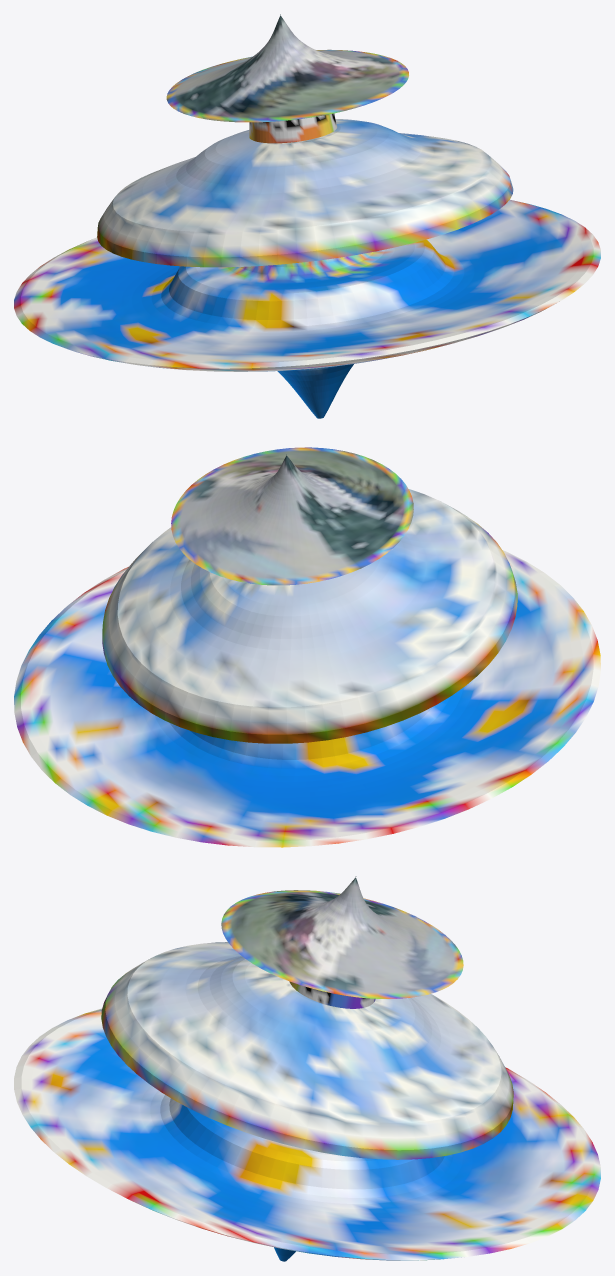
File: thirdsalinatest.glb
The picture shows the model from 3 angles, top to bottom: view 1: azimuth 30°, elevation 25°; view 2: azimuth 150°, elevation 25°; view 3: azimuth 270°, elevation 25°; orthographic projection.
Visible parts, largest first — view 1: Lathe 4, Lathe 3, Lathe, Lathe.001; view 2: Lathe 4, Lathe 3, Lathe; view 3: Lathe 4, Lathe 3, Lathe, Lathe.001.
Boxes of the visible parts, <box> form: Lathe 4: <box>14,199,600,418</box>; Lathe 3: <box>97,119,513,267</box>; Lathe: <box>166,14,408,122</box>; Lathe.001: <box>249,113,337,143</box>; Lathe 4: <box>14,550,600,847</box>; Lathe 3: <box>102,489,517,743</box>; Lathe: <box>171,447,413,585</box>; Lathe 4: <box>14,1008,600,1261</box>; Lathe 3: <box>101,942,513,1159</box>; Lathe: <box>221,876,463,998</box>; Lathe.001: <box>289,981,375,1008</box>.
Bounding box in the file's own units: 3.61 × 2.55 × 3.55.
